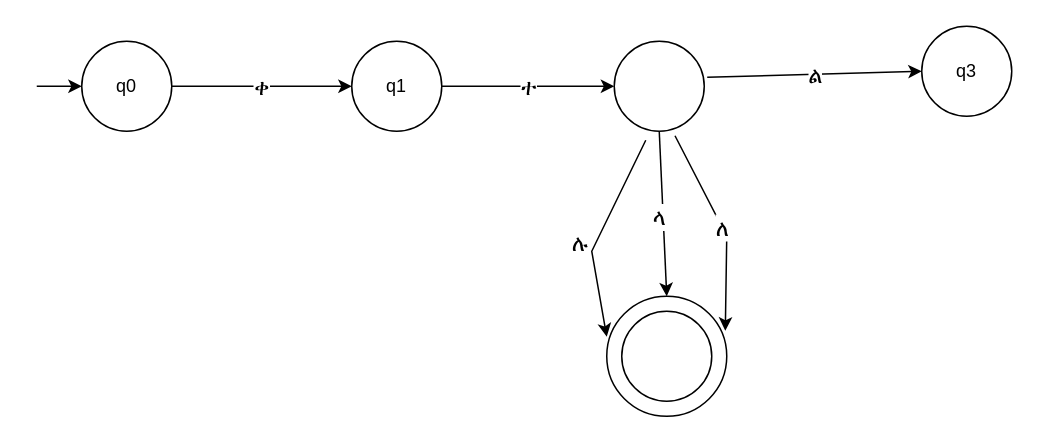
The diagram is 1038 pixels wide and 443 high, and some of its shapes have lost their labels. Here are the shapes that lost their labels. From the top down, the box of each, then its label:
(613, 40, 704, 131): q2
(620, 310, 712, 401): q5
